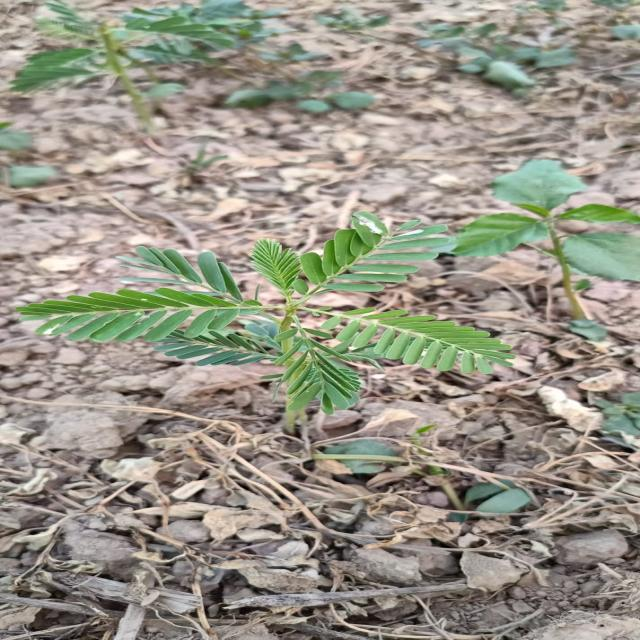plant: (17, 212, 511, 410)
